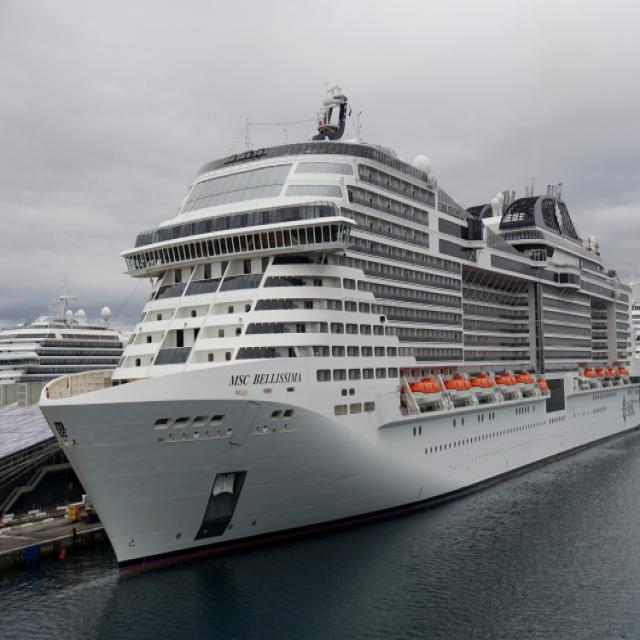cruises: (33, 95, 640, 590)
